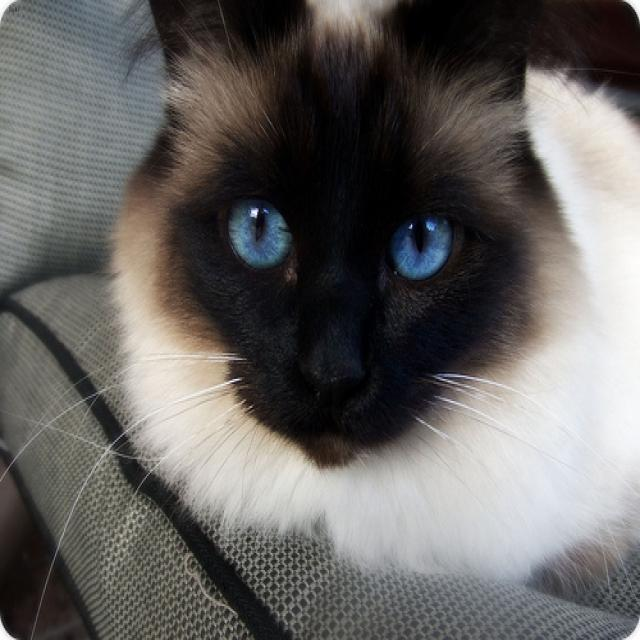Birman: (147, 0, 550, 469)
